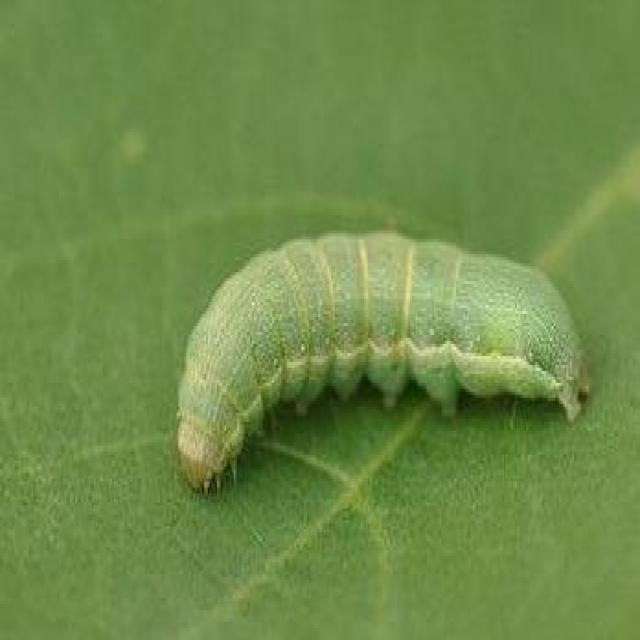BeetArmyWorm-Larva-: (165, 217, 599, 502)
